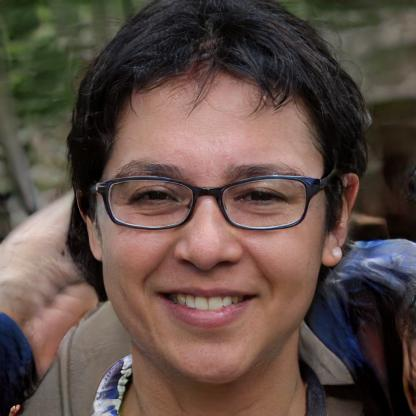glasses: (99, 168, 321, 235)
